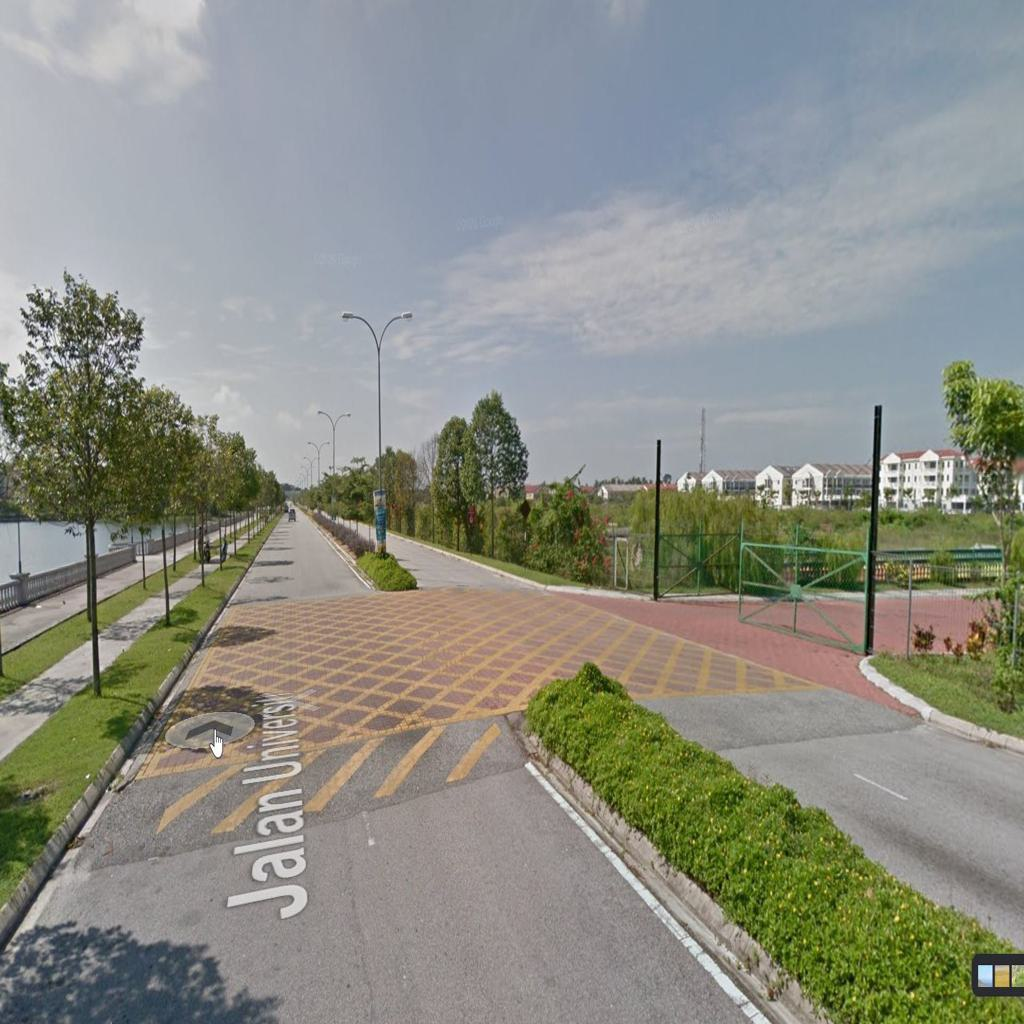Junction: (595, 532, 873, 702)
